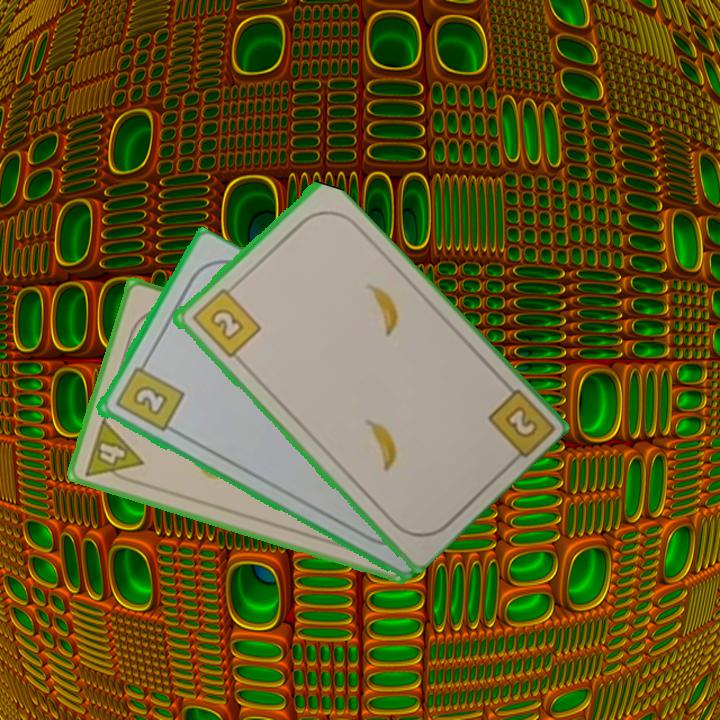2b: (111, 356, 186, 435), (188, 282, 263, 361), (500, 402, 541, 442)
4p: (80, 415, 146, 488)
